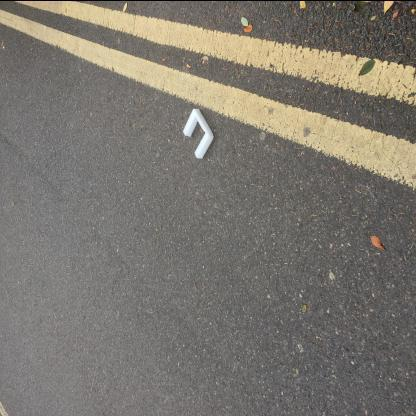kopuk: (184, 109, 216, 160)
